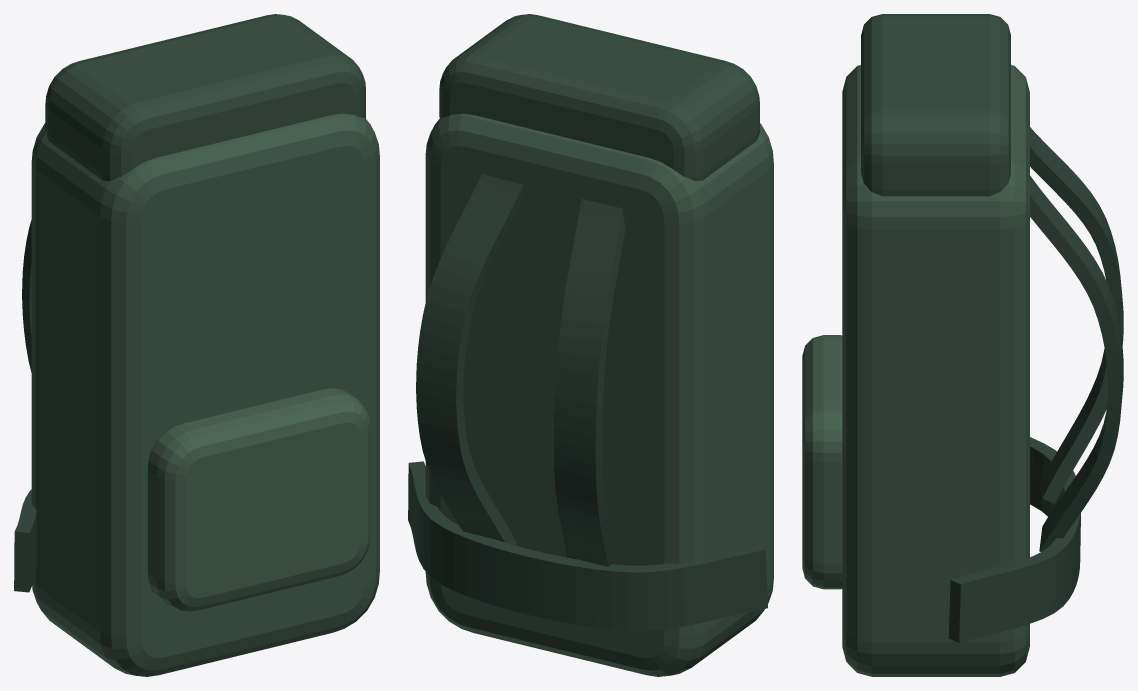
Rendered from ultralight-40.glb.
The picture shows the model from 3 angles, left to right: view 1: azimuth 30°, elevation 25°; view 2: azimuth 150°, elevation 25°; view 3: azimuth 270°, elevation 25°; orthographic projection.
Visible parts, largest first — view 1: body, front-pocket, lid, hip-belt, shoulder-strap-l; view 2: body, lid, hip-belt, shoulder-strap-r, shoulder-strap-l; view 3: body, lid, front-pocket, hip-belt, shoulder-strap-r, shoulder-strap-l.
Boxes of the visible parts, <box> form: body: <box>31,113,379,676</box>; front-pocket: <box>147,388,371,611</box>; lid: <box>45,14,365,180</box>; hip-belt: <box>14,489,36,592</box>; shoulder-strap-l: <box>22,220,31,372</box>; body: <box>425,113,773,676</box>; lid: <box>439,14,759,180</box>; hip-belt: <box>408,461,767,630</box>; shoulder-strap-r: <box>416,174,523,545</box>; shoulder-strap-l: <box>553,199,625,566</box>; body: <box>842,65,1029,676</box>; lid: <box>861,14,1010,196</box>; front-pocket: <box>802,335,842,589</box>; hip-belt: <box>948,437,1080,642</box>; shoulder-strap-r: <box>1030,175,1123,551</box>; shoulder-strap-l: <box>1030,127,1123,503</box>.
Size of the model in its own units: 0.4832 by 0.73 by 0.3771.
